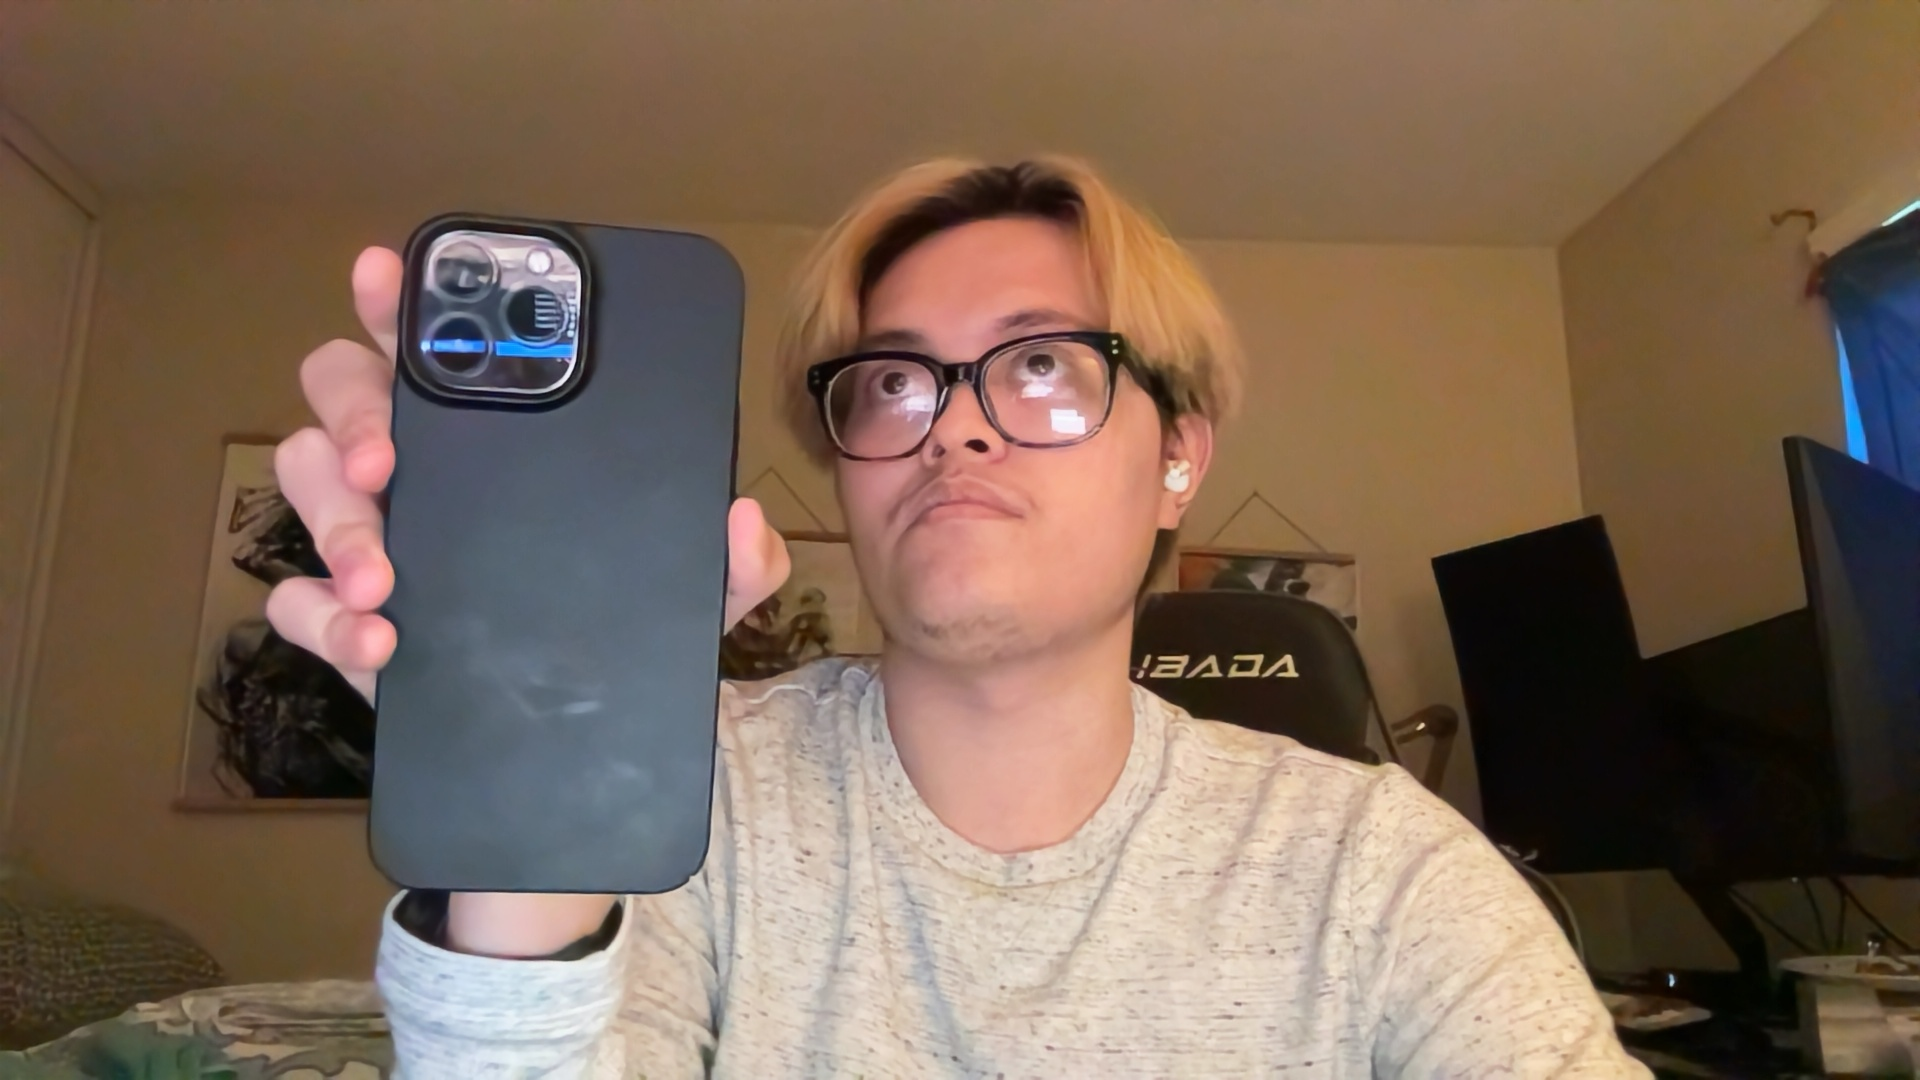phone: (365, 215, 744, 898)
